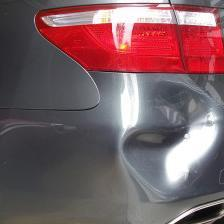bumper_dent: (100, 56, 224, 212)
